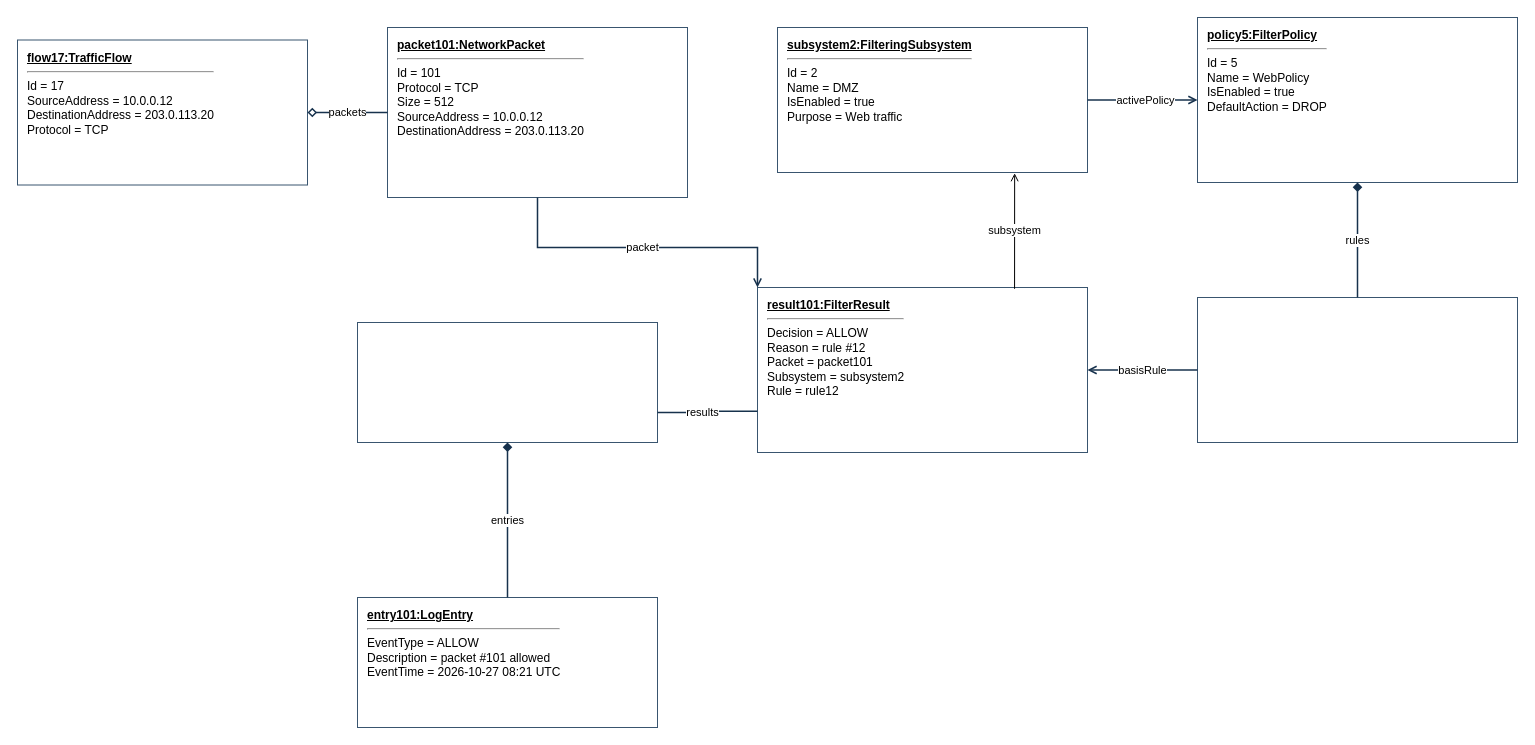
Image size: 1535x745. Some labels were removed from this diagram. The centre of each missing label's shape, as x and y in pixels:
journal1:FilterJournal Results = {result101} Entries = {entry101}: (507,382)
rule12:FilterRule Id = 12 Condition = TCP Priority = 10 Action = ALLOW: (1357,369)
